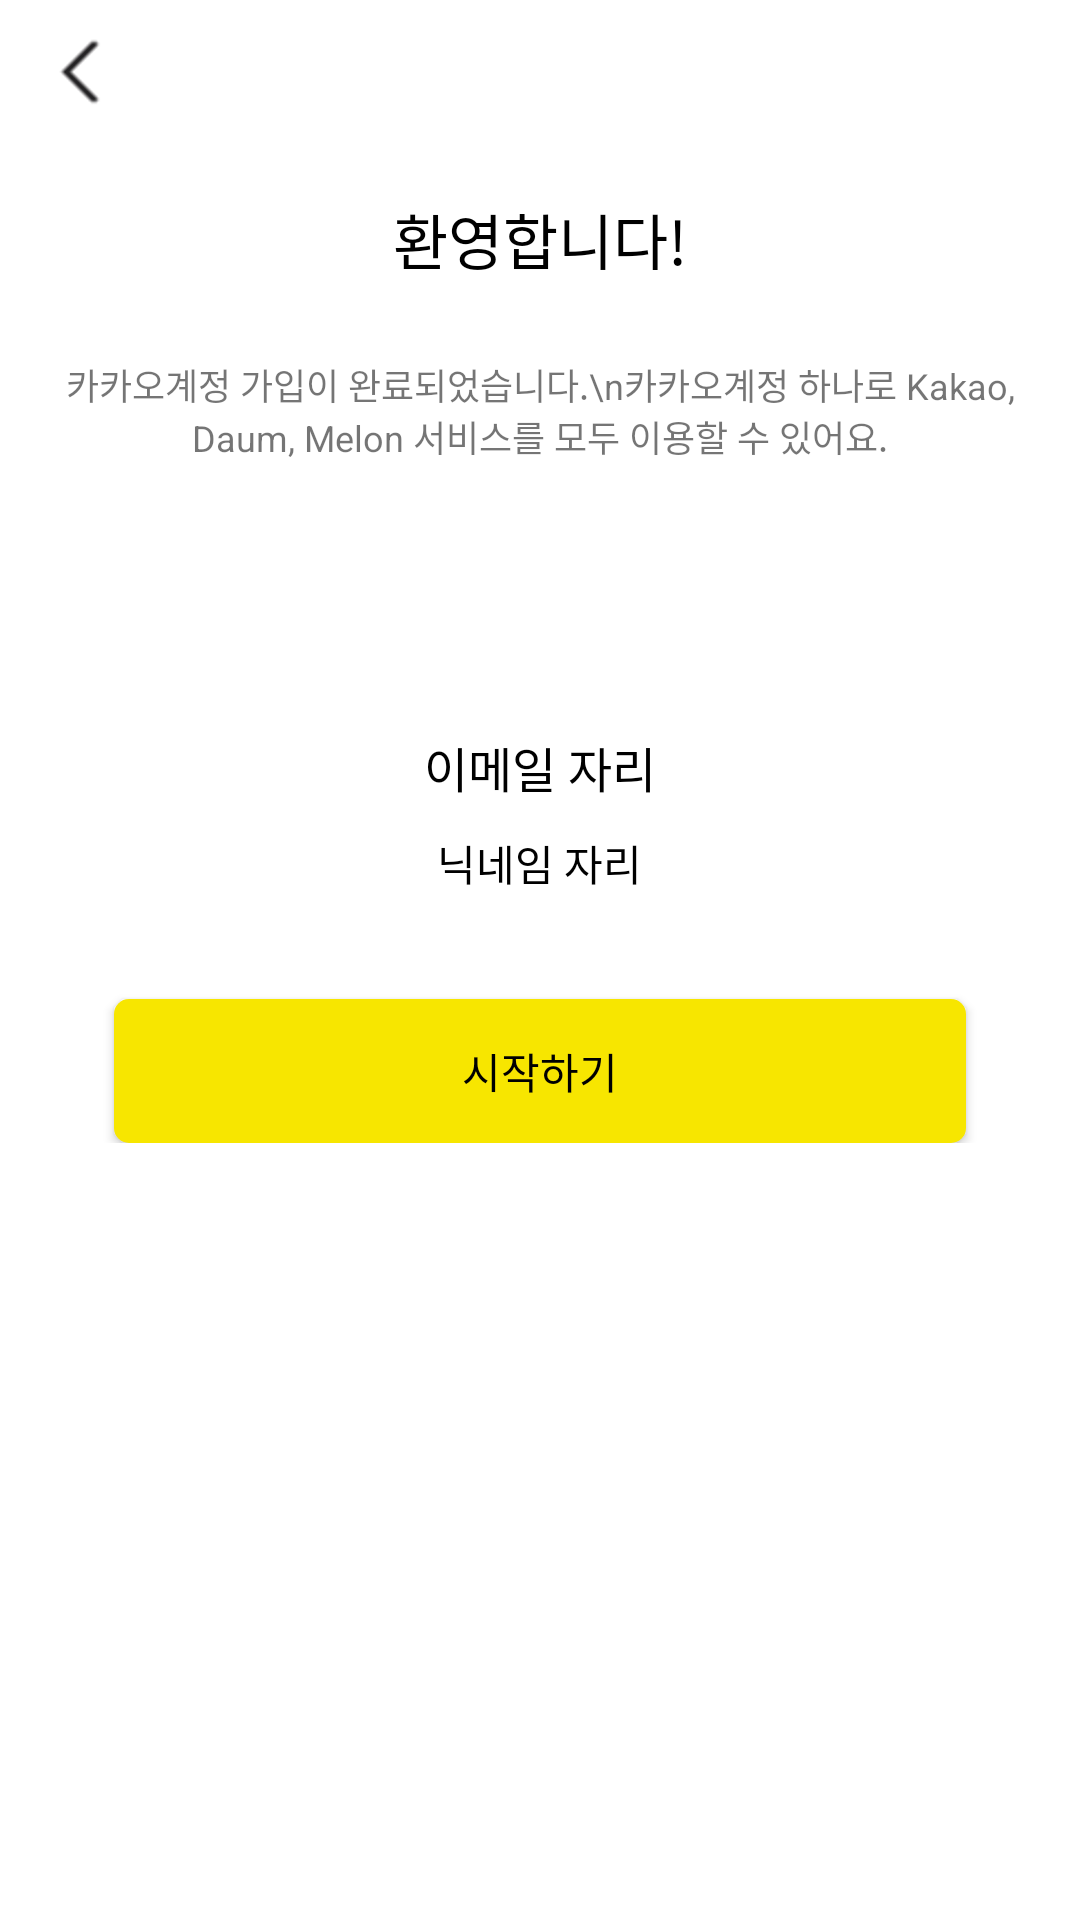

Where to tap for icons on this 1080*1920 app screen, as [x,y]:
left: [80,71]
